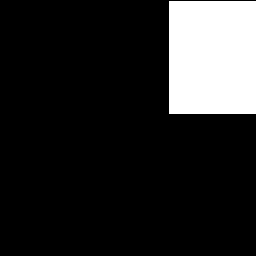rumex: (169, 1, 256, 113)
